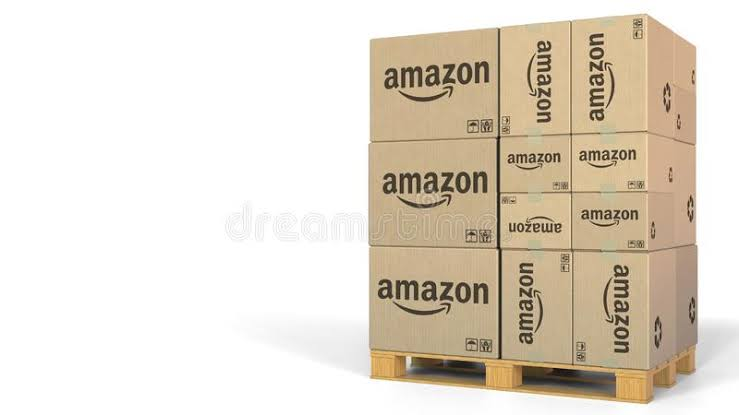box: (368, 24, 497, 146), (367, 246, 500, 364), (369, 139, 498, 248), (570, 251, 649, 375), (570, 13, 646, 134), (498, 250, 572, 373), (498, 17, 571, 137), (571, 135, 647, 195), (569, 194, 647, 252), (496, 135, 571, 193), (496, 194, 570, 252)
pallet: (365, 339, 702, 407)
